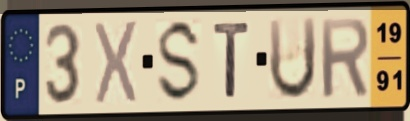3: (43, 20, 85, 108)
R: (317, 15, 372, 101)
S: (153, 16, 204, 106)
T: (211, 19, 253, 101)
U: (266, 13, 319, 104)
X: (92, 17, 141, 107)
